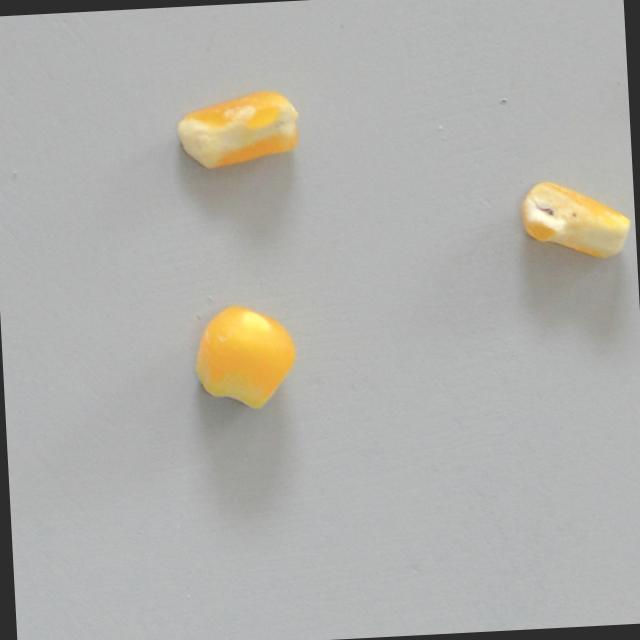dañado: (188, 301, 304, 417), (515, 176, 636, 265)
punto_negro: (172, 88, 307, 174)
